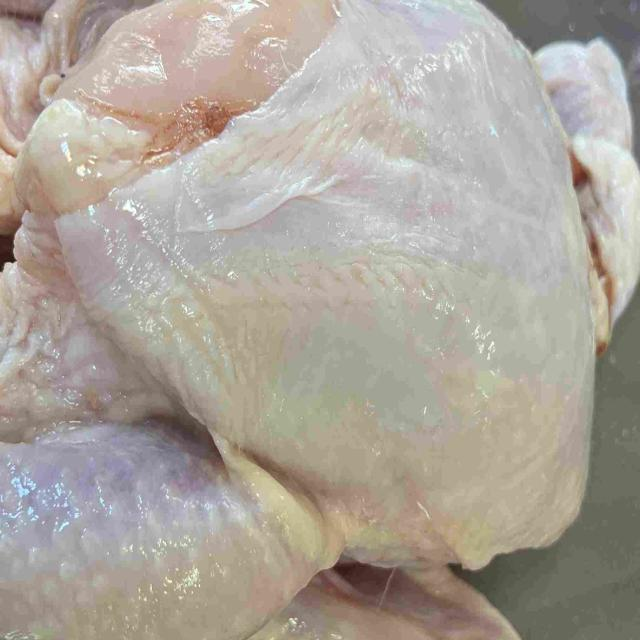breast: (34, 0, 591, 552)
leg: (0, 419, 328, 640)
neck: (539, 33, 640, 340)
wing: (247, 548, 521, 640)
